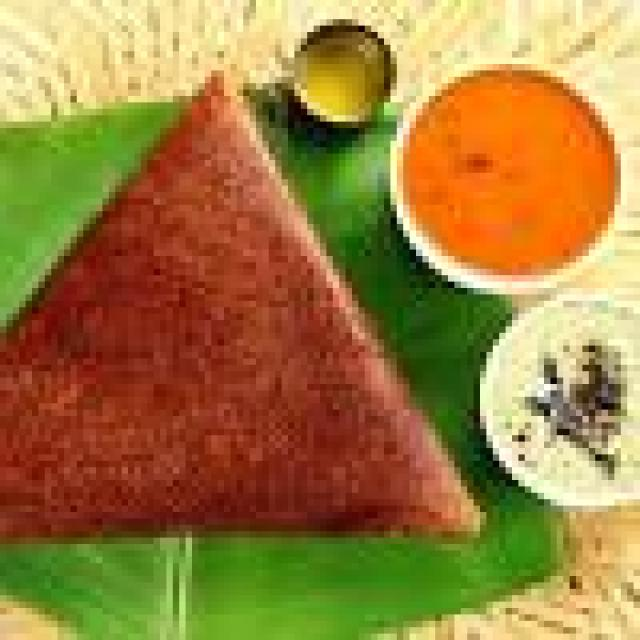Wet Waste: (0, 76, 474, 570), (461, 294, 634, 480)
